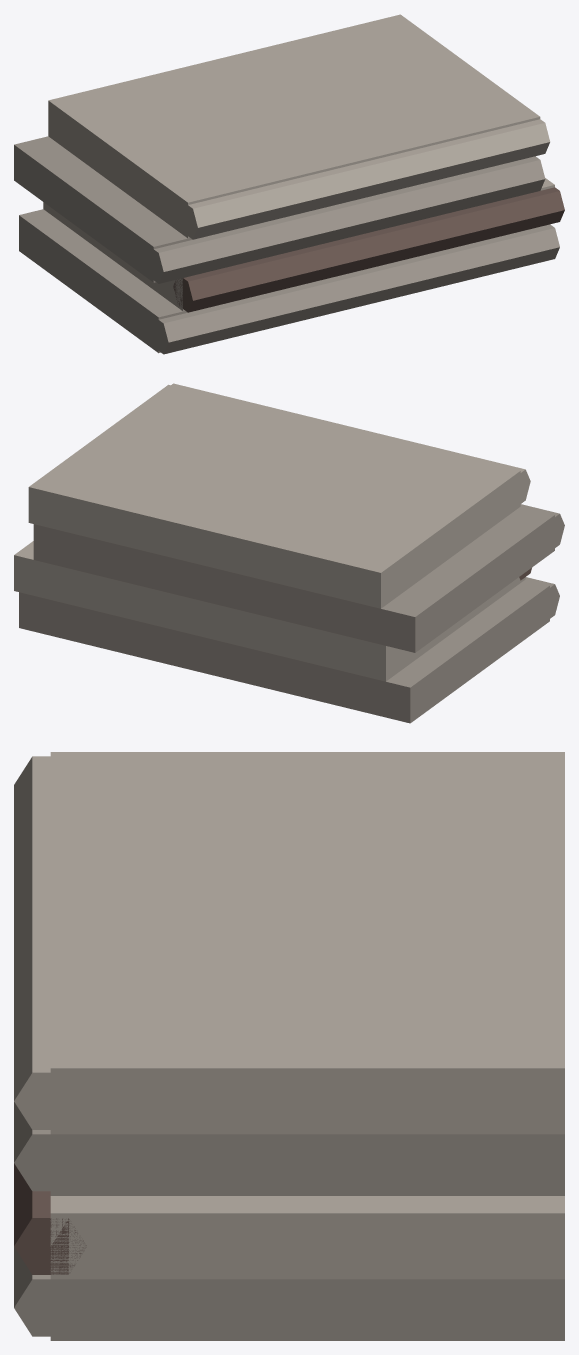
File: blanket_stack.glb
The picture shows the model from 3 angles, top to bottom: view 1: azimuth 30°, elevation 25°; view 2: azimuth 150°, elevation 25°; view 3: azimuth 270°, elevation 25°; orthographic projection. The views are drawn at different scales.
Visible parts, largest first — view 1: blanket_stack; view 2: blanket_stack; view 3: blanket_stack.
Boxes of the visible parts, bbox=[...] form: blanket_stack: bbox=[14, 14, 564, 354]; blanket_stack: bbox=[14, 383, 564, 723]; blanket_stack: bbox=[14, 752, 564, 1340].
Bounding box in the file's own units: 0.82 × 0.28 × 0.53.
